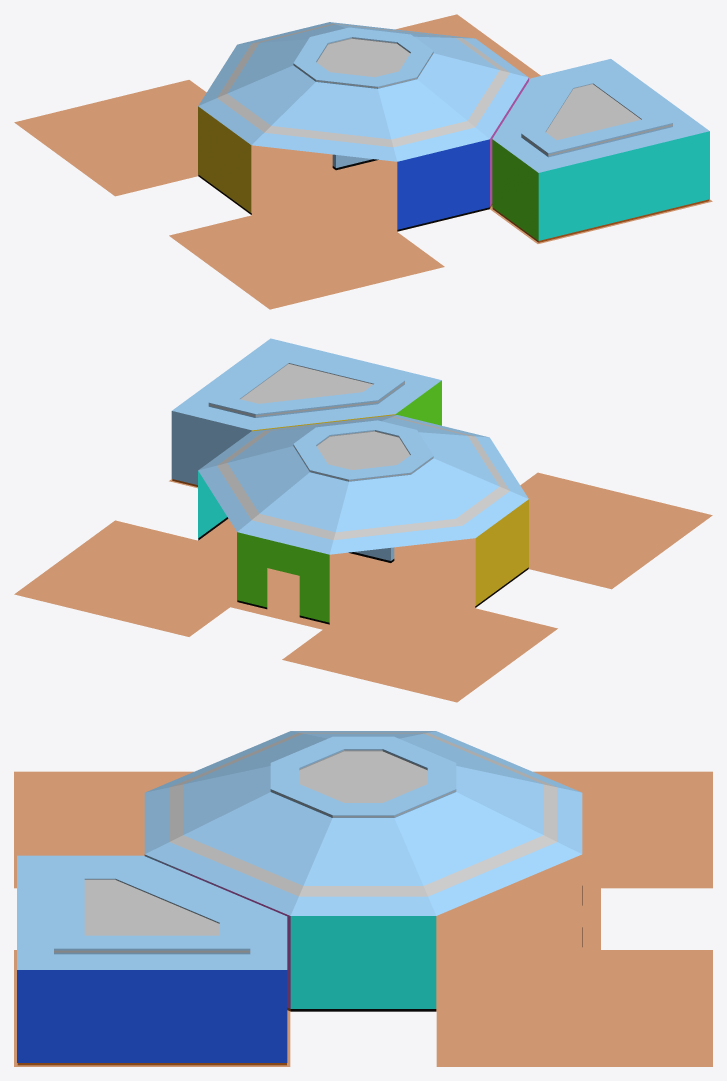
Rendered from Building.fbx.
3 views of the same model, one above another, from view 1: azimuth 30°, elevation 25°; view 2: azimuth 150°, elevation 25°; view 3: azimuth 270°, elevation 25° (orthographic). The views are drawn at different scales.
Visible parts, largest first — view 1: Building, Floor_1, Walls, Ceiling; view 2: Floor_1, Building, Ceiling, Walls; view 3: Building, Floor_1, Ceiling, Walls.
Boxes of the visible parts, x1=… form: Building: x1=198, y1=22, x2=528, y2=231; Floor_1: x1=14, y1=14, x2=712, y2=309; Walls: x1=489, y1=78, x2=709, y2=242; Ceiling: x1=492, y1=59, x2=709, y2=172; Floor_1: x1=14, y1=472, x2=712, y2=702; Building: x1=198, y1=415, x2=528, y2=624; Ceiling: x1=172, y1=338, x2=441, y2=430; Walls: x1=171, y1=380, x2=441, y2=486; Building: x1=144, y1=731, x2=582, y2=1011; Floor_1: x1=14, y1=771, x2=712, y2=1066; Ceiling: x1=17, y1=855, x2=287, y2=969; Walls: x1=17, y1=860, x2=290, y2=1065.
Bounding box in the file's own units: 2276 × 515 × 2276.
